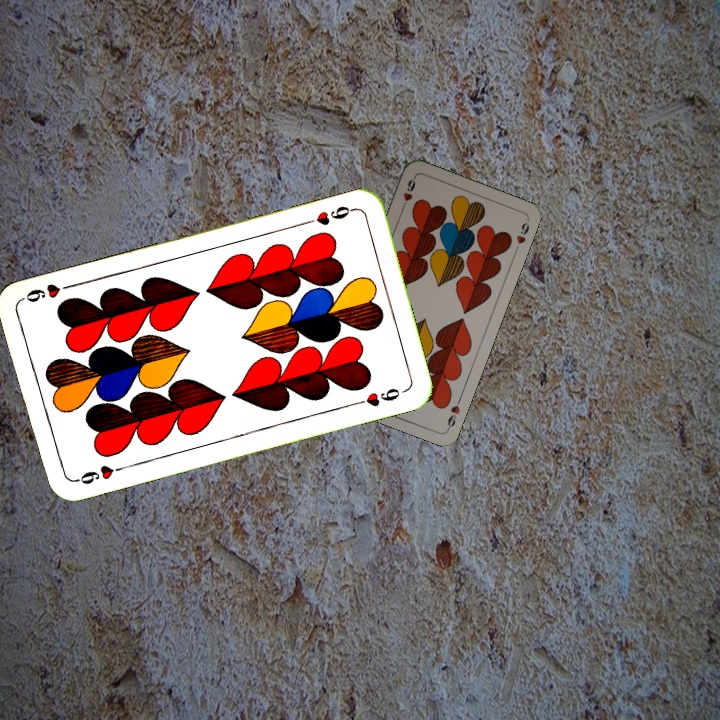H9: (69, 461, 128, 487), (300, 202, 358, 228), (397, 173, 418, 213), (443, 393, 464, 432)
